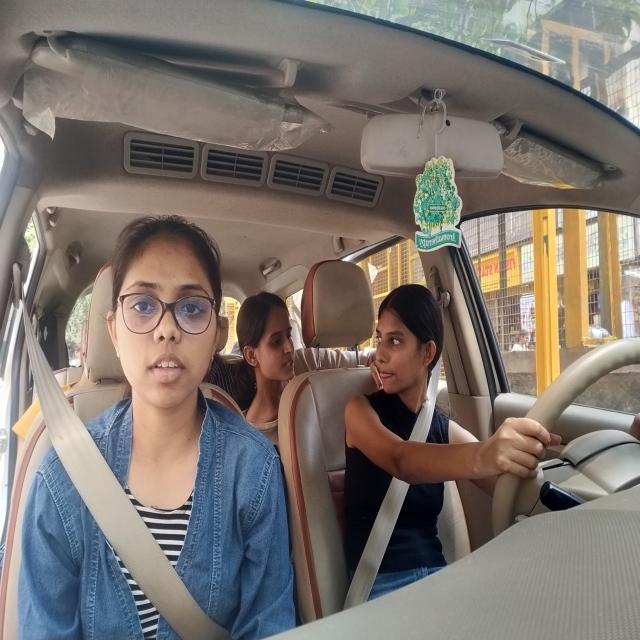LeftRight: (376, 282, 446, 407)
person: (104, 211, 226, 420), (235, 287, 298, 395)
